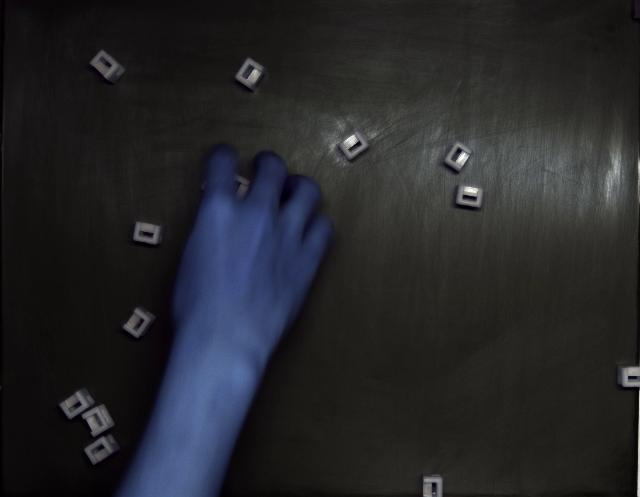fourth_side: (90, 50, 125, 84), (81, 405, 115, 438), (59, 389, 95, 420), (84, 435, 120, 465), (122, 308, 156, 339), (235, 58, 266, 91), (339, 131, 369, 160), (445, 141, 472, 172), (132, 221, 164, 245), (456, 185, 484, 208)
